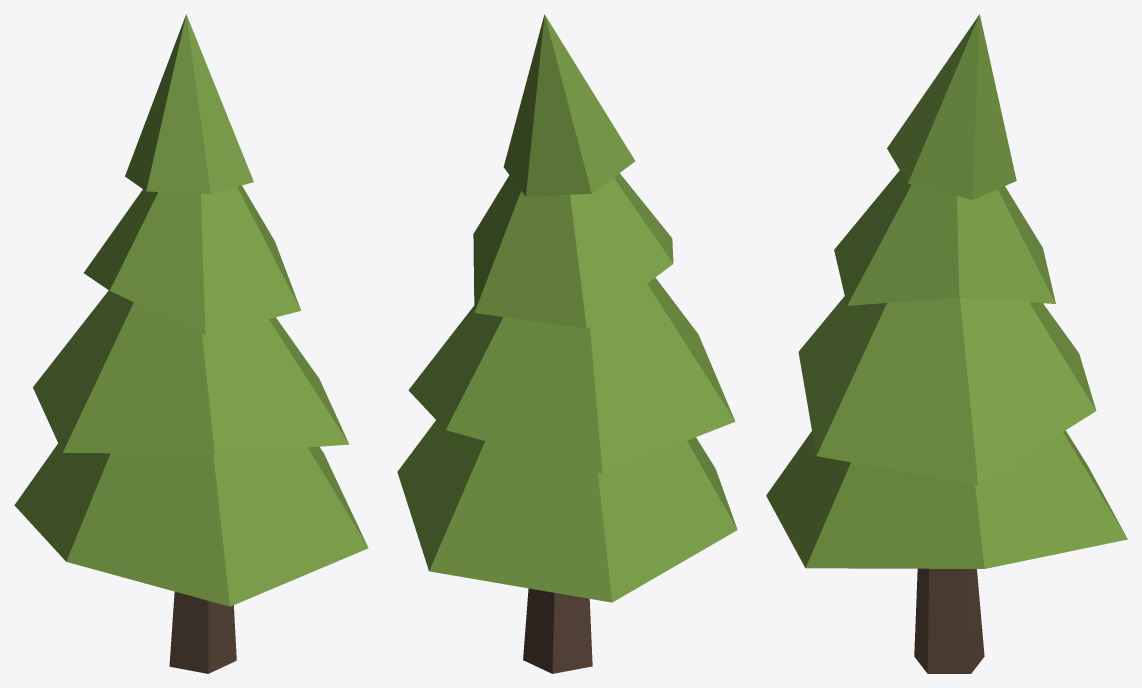
The model's file is TB_Env_Tree_B.FBX.
3 renders of one model, left to right at view 1: azimuth 30°, elevation 25°; view 2: azimuth 150°, elevation 25°; view 3: azimuth 270°, elevation 25°, orthographic. The views are drawn at different scales.
Visible parts, largest first — view 1: TB_Env_Tree_B; view 2: TB_Env_Tree_B; view 3: TB_Env_Tree_B.
Boxes of the visible parts, x1,y1,x2,y2 form: TB_Env_Tree_B: (14, 14, 368, 673); TB_Env_Tree_B: (397, 14, 737, 673); TB_Env_Tree_B: (766, 14, 1127, 673).
Bounding box in the file's own units: 4.01 × 8.26 × 4.18.
